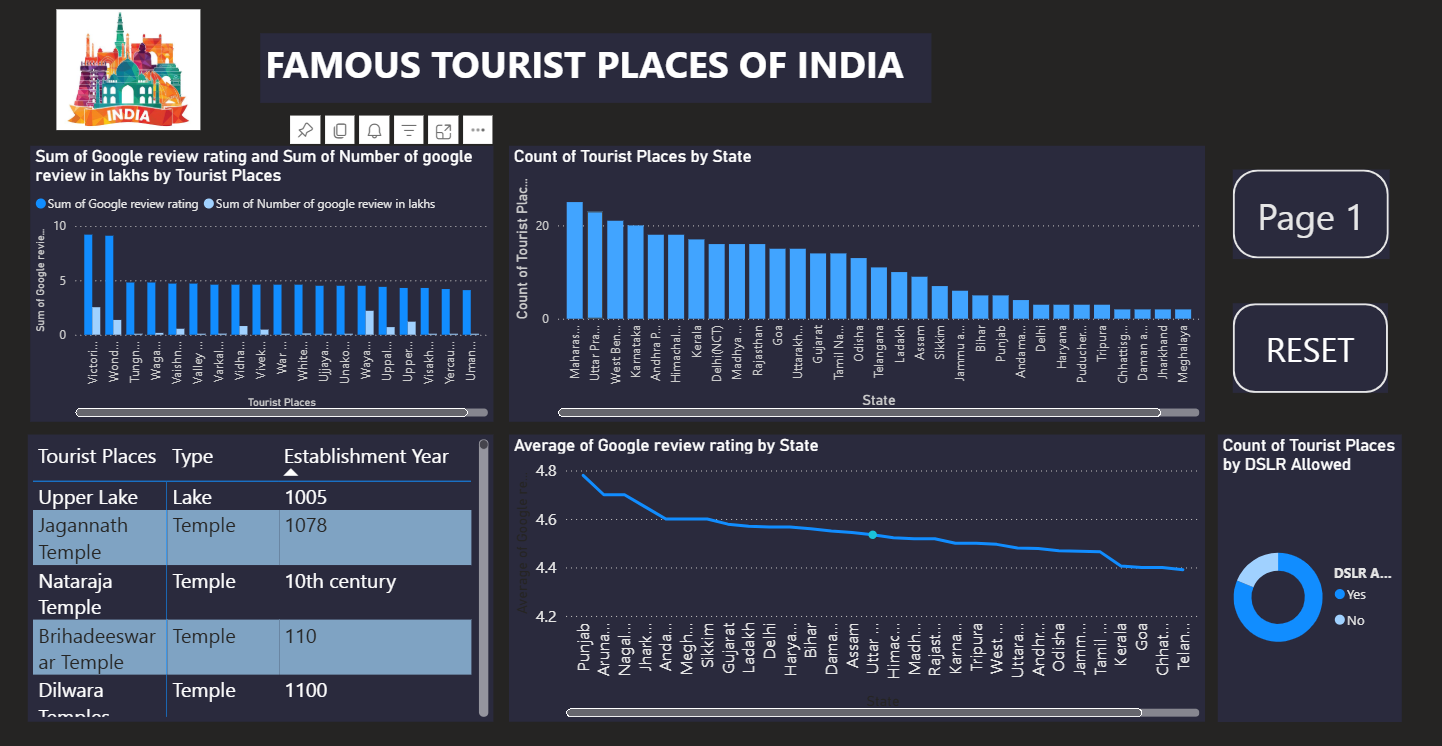

The dashboard page shown, as its layout file describes it:
{"tool":"powerbi","page":{"name":"Page 2","canvas":[1400,720],"ordinal":1},"visuals":[{"type":"clusteredColumnChart","fields":{"Category":["Tourism_dataset.Tourist Places"],"Y":["Sum(Tourism_dataset.Google review rating)","Sum(Tourism_dataset.Number of google review in lakhs)"]},"box":[16.5,143.7,462.9,276],"z":0},{"type":"donutChart","fields":{"Category":["Tourism_dataset.DSLR Allowed"],"Y":["CountNonNull(Tourism_dataset.Tourist Places)"]},"box":[1203.7,432.2,184.1,287.6],"z":1000},{"type":"lineChart","fields":{"Category":["Tourism_dataset.State"],"Y":["Avg(Tourism_dataset.Google review rating)"]},"box":[494.7,432.4,695.7,287.4],"z":2000},{"type":"pivotTable","fields":{"Rows":["Tourism_dataset.Tourist Places"],"Values":["Min(Tourism_dataset.Type)","Min(Tourism_dataset.Establishment Year)"]},"box":[14,432.4,465.5,287.4],"z":3000},{"type":"columnChart","fields":{"Y":["CountNonNull(Tourism_dataset.Tourist Places)"],"Category":["Tourism_dataset.State"]},"box":[494.7,143.7,695.7,276],"z":4000},{"type":"actionButton","box":[1218.9,301.3,155.2,89.8],"z":5000},{"type":"image","box":[0,2.5,228.9,131],"z":6000},{"type":"textbox","box":[246.7,31.8,671.5,69.9],"z":7000},{"type":"pageNavigator","box":[1218.9,167.4,156.7,89.8],"z":8000}]}

Visuals, with their boxes on the page's 1400x720 design canvas (x1, y1, x2, y2). These are canvas units, not pixel positions in the 1442x746 screenshot, which may show the page scaled, cropped or inside an application window:
clusteredColumnChart - Tourism_dataset.Tourist Places x Sum(Tourism_dataset.Google review rating): (16,144,479,420)
donutChart - Tourism_dataset.DSLR Allowed x CountNonNull(Tourism_dataset.Tourist Places): (1204,432,1388,720)
lineChart - Tourism_dataset.State x Avg(Tourism_dataset.Google review rating): (495,432,1190,720)
pivotTable - Tourism_dataset.Tourist Places x Min(Tourism_dataset.Type): (14,432,480,720)
columnChart - CountNonNull(Tourism_dataset.Tourist Places) x Tourism_dataset.State: (495,144,1190,420)
actionButton: (1219,301,1374,391)
image: (0,2,229,134)
textbox: (247,32,918,102)
pageNavigator: (1219,167,1376,257)
